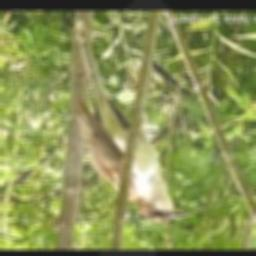Cuckoo: (75, 19, 187, 223)
